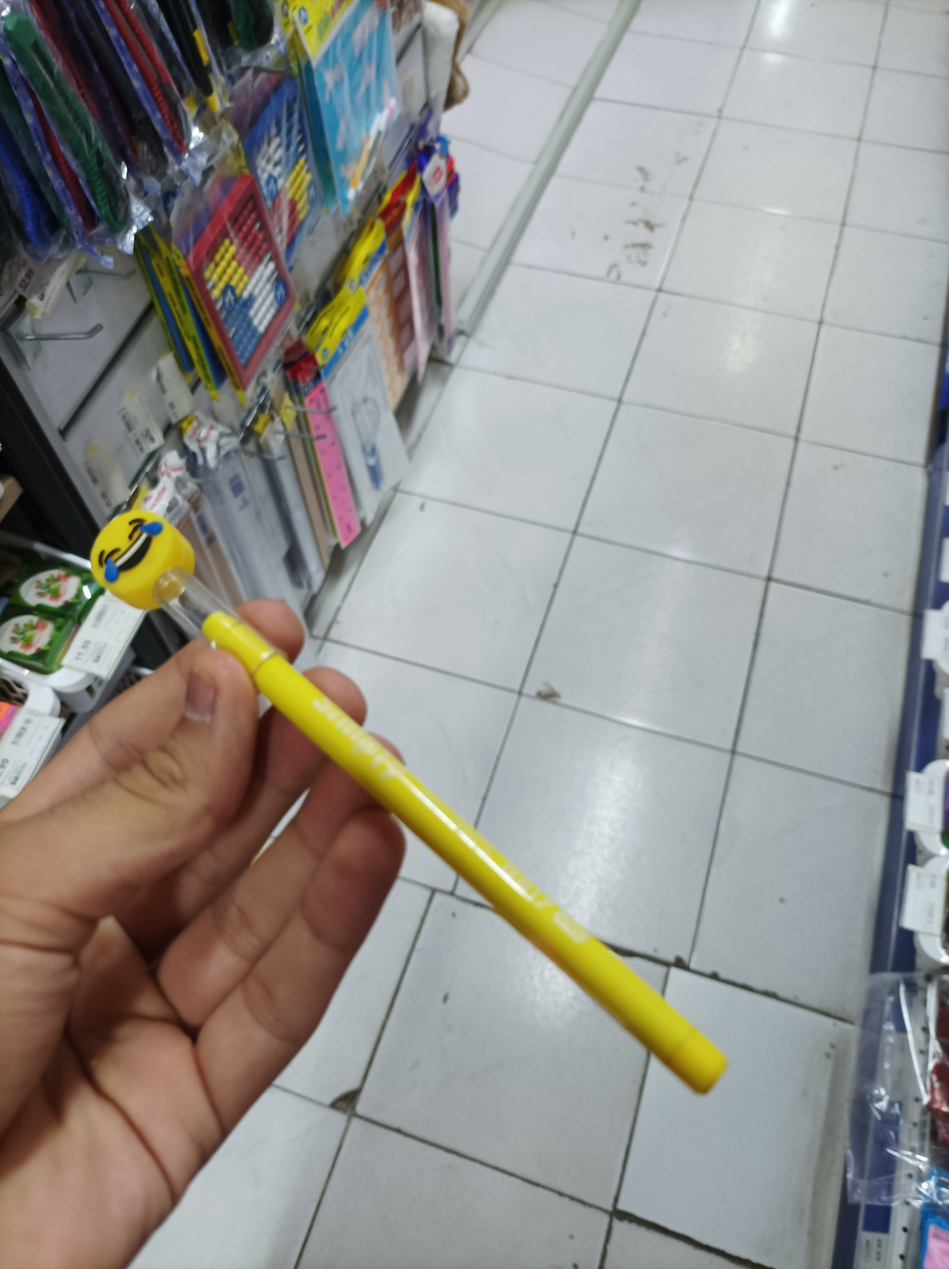plastic: (96, 508, 733, 1101)
